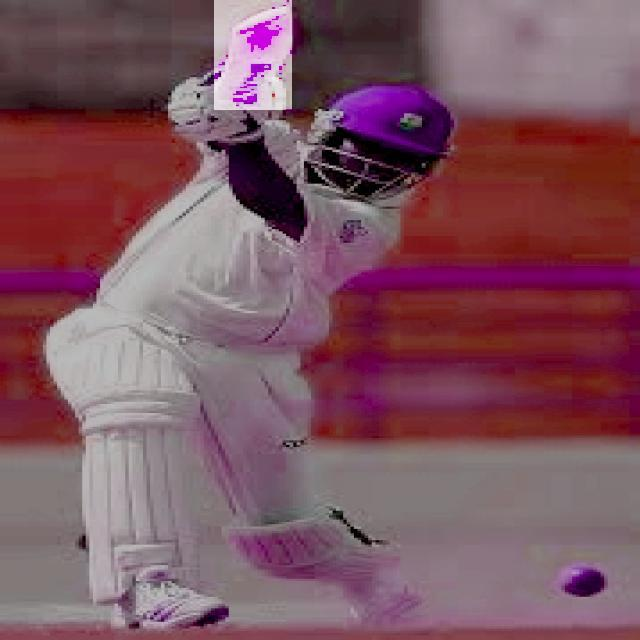bat: (213, 0, 291, 111)
toe: (238, 8, 280, 32)
